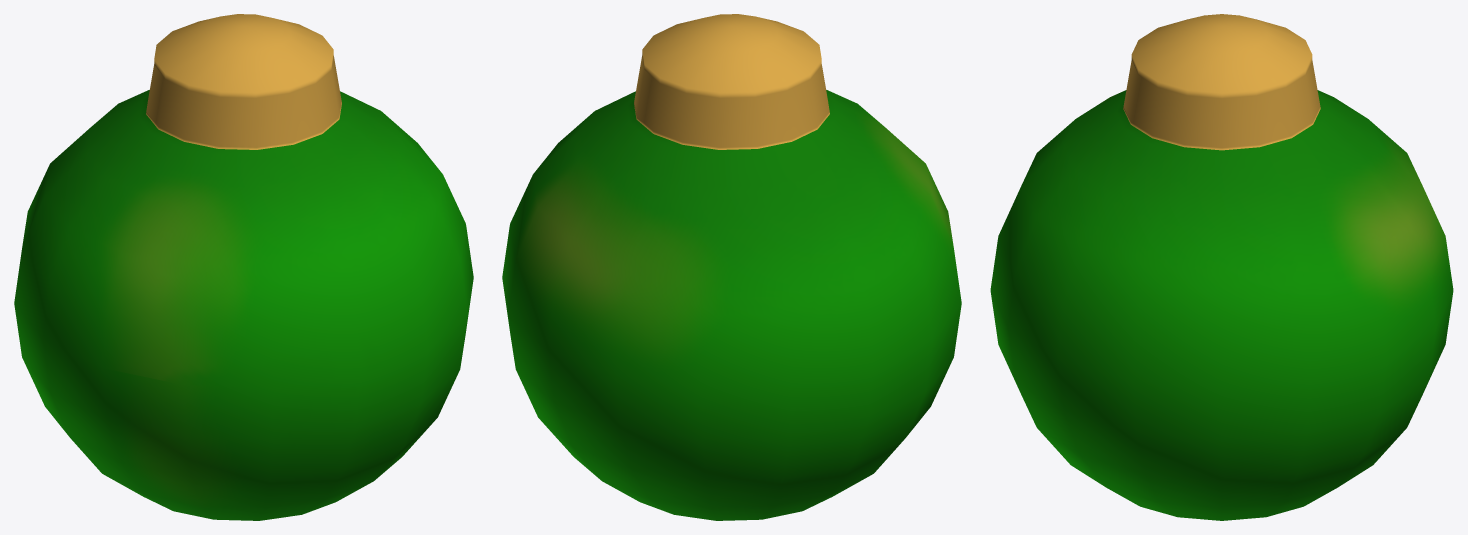
Rendered from lamp.fbx.
3 renders of one model, left to right at view 1: azimuth 30°, elevation 25°; view 2: azimuth 150°, elevation 25°; view 3: azimuth 270°, elevation 25°, orthographic.
Visible parts, largest first — view 1: lamp; view 2: lamp; view 3: lamp.
Part boxes in pixels (x1,y1,x2,y2): lamp: (14,14,473,520); lamp: (502,14,961,520); lamp: (990,14,1453,520).
Bounding box in the file's own units: 15.6 × 17.61 × 15.6.
